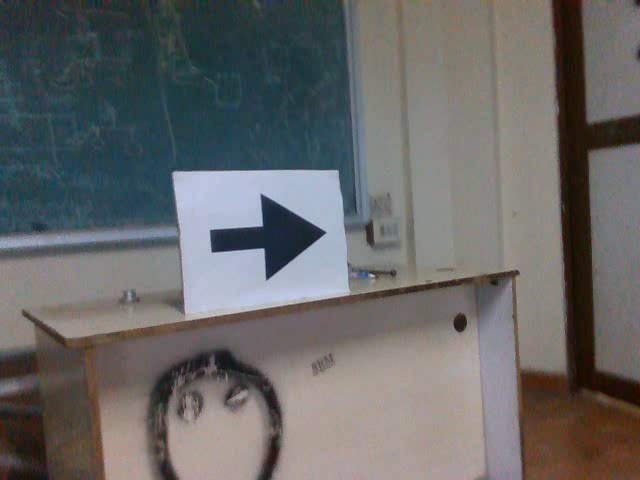Right: (198, 189, 332, 284)
